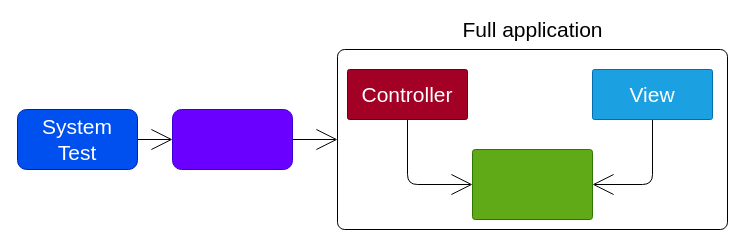
The diagram is 745 pixels wide and 247 high, and some of its shapes have lost their labels. Here are the shapes that lost their labels. From the top down, the centre of each, then its label:
(232,139): Driver
(532,184): Model
